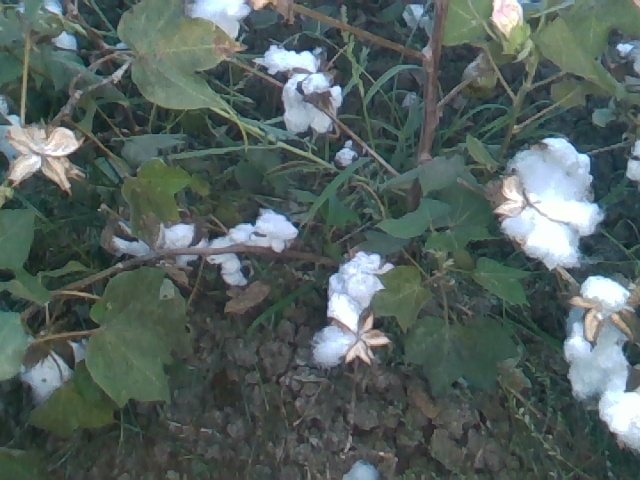cotton: (493, 133, 605, 268), (570, 268, 633, 412), (260, 47, 341, 144), (101, 205, 207, 272), (207, 212, 295, 287), (324, 246, 395, 333), (15, 331, 96, 403), (10, 2, 84, 52), (185, 1, 254, 38), (602, 383, 640, 449)
